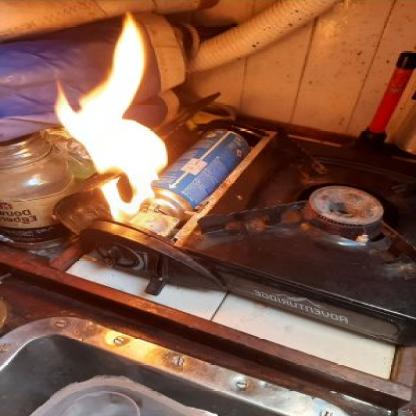fire: (42, 13, 158, 226)
